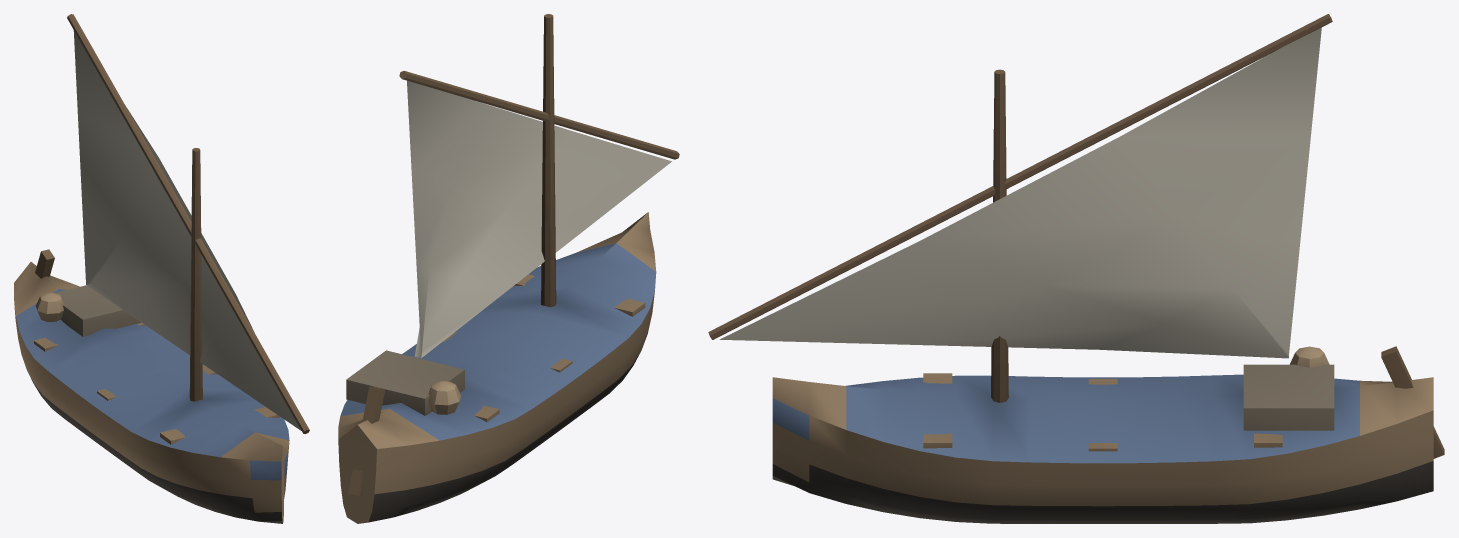
Rendered from boat.glb.
3 renders of one model, left to right at view 1: azimuth 30°, elevation 25°; view 2: azimuth 150°, elevation 25°; view 3: azimuth 270°, elevation 25°, orthographic. The views are drawn at different scales.
Parts seen in each view (by area): view 1: Body; view 2: Body; view 3: Body.
Boxes of the visible parts, x1,y1,x2,y2 form: Body: (14, 14, 309, 523); Body: (338, 14, 679, 523); Body: (708, 14, 1444, 523).
Size of the model in its own units: 0.4923 by 1.31 by 1.78.
